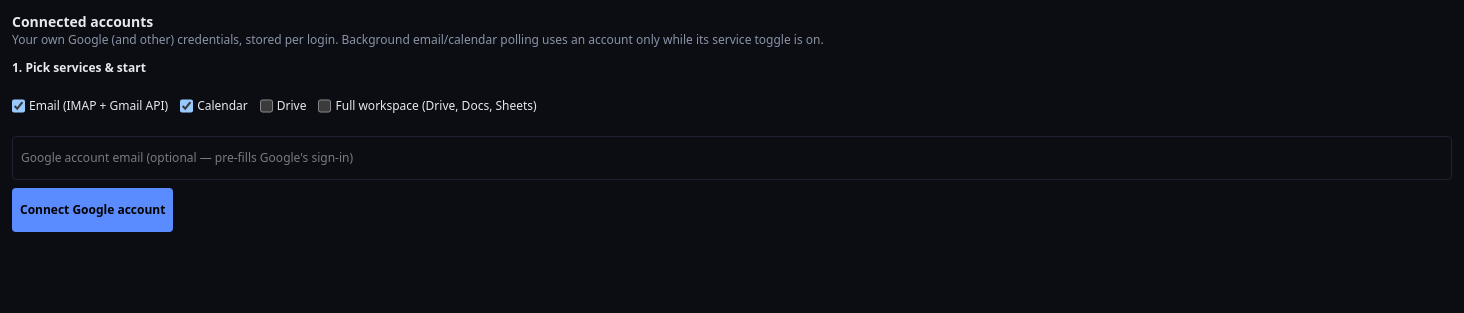
Test: ConnectedAccounts › rejects a non-URL value in the redirect-URL field
The width and height of the screenshot is (1464, 313).
Click the button "Connect Google account" at (93, 210), box [12,188,173,232]
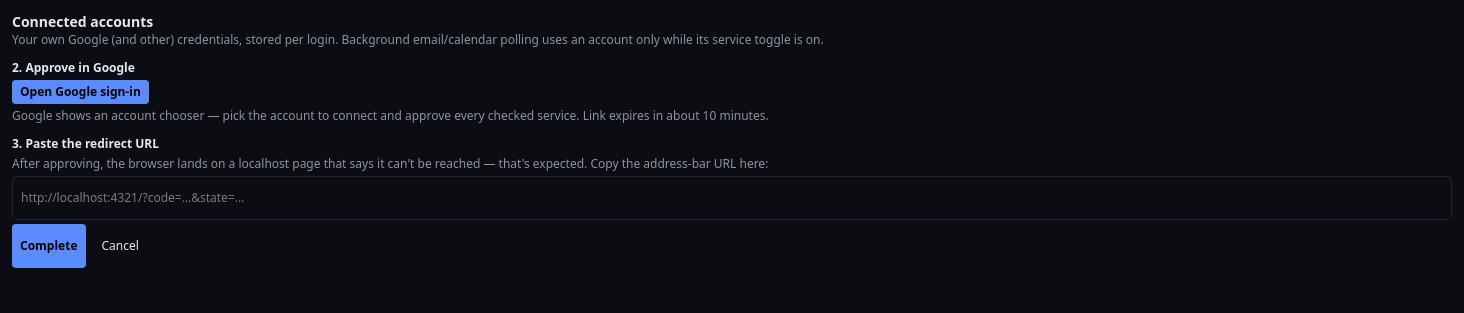
Type "alice@gmail.com" into the field with placeholder "http://localhost:4321/?code=…&state=…" at (732, 198), box [12,176,1452,220]
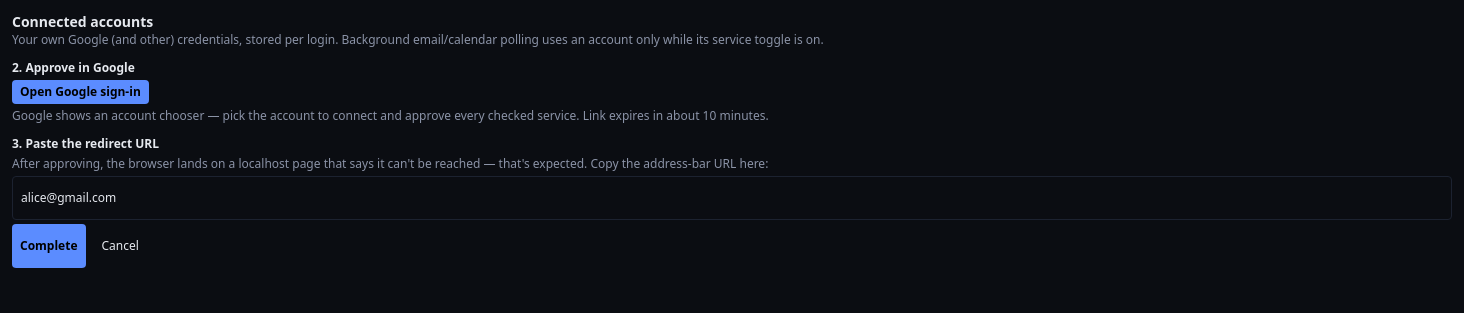
Click the button "Complete" at (49, 246), box [12,224,86,268]
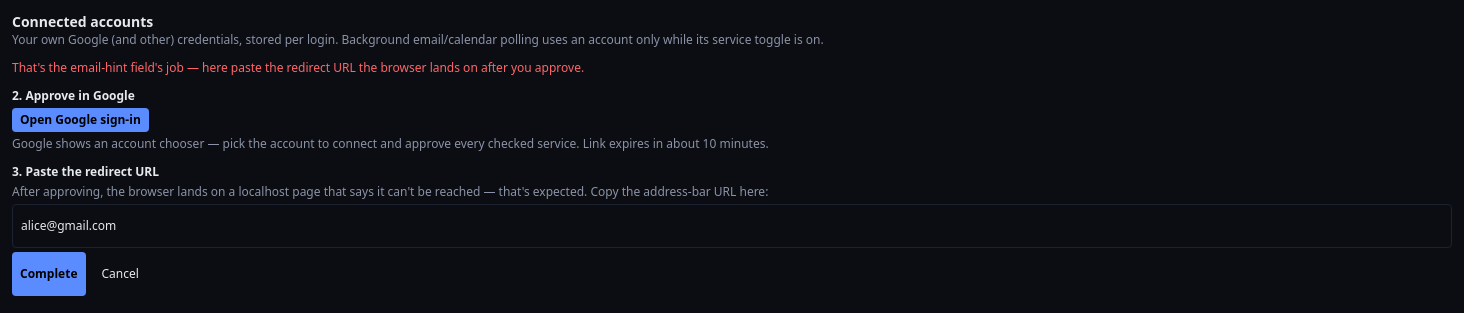
Check: the text "email-hint field" is shown, box [12,59,584,76]
